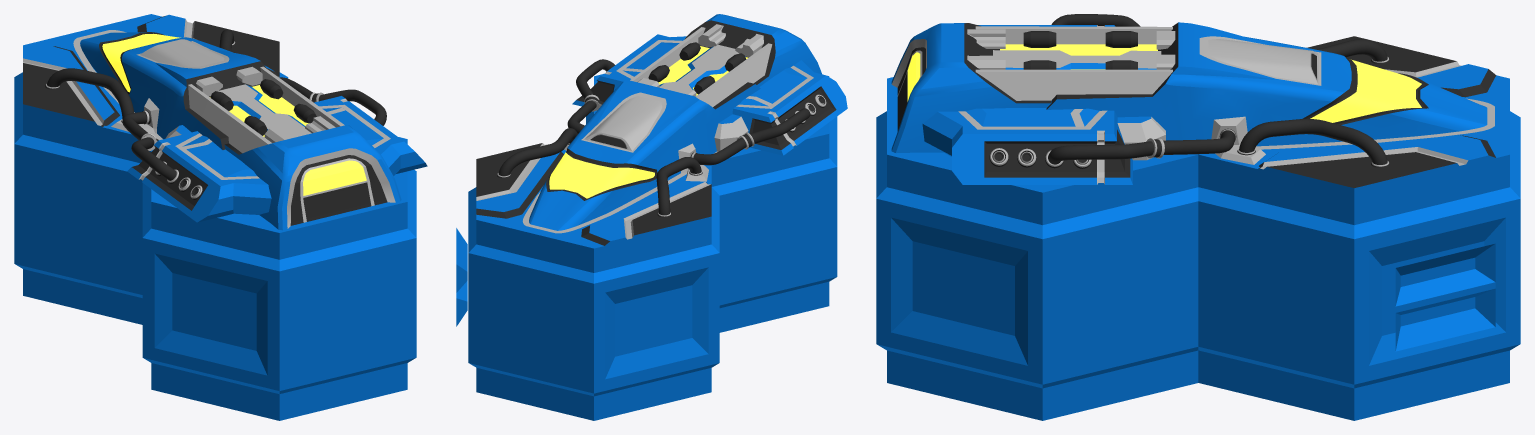
Rendered from CS_Bridge_Hex2_HP.fbx.
The picture shows the model from 3 angles, left to right: view 1: azimuth 30°, elevation 25°; view 2: azimuth 150°, elevation 25°; view 3: azimuth 270°, elevation 25°; orthographic projection. The views are drawn at different scales.
Parts seen in each view (by area): view 1: SM_Module_Bridge_TD.004, SM_Module_Bridge_TD, SM_Module_Bridge_BO.004, Cube.002, Cube.006, SM_Module_Bridge_BO.001, SM_Module_Bridge_BO.003, Pipe.004, Cube.010, Pipe.003, SM_Module_Bridge_BO.005, Cube.001 (+6 smaller); view 2: SM_Module_Bridge_TD.004, SM_Module_Bridge_TD, SM_Module_Bridge_BO.001, Cube.002, Cube.006, SM_Module_Bridge_BO.003, SM_Module_Bridge_BO.004, Cube.001, Pipe.004, Pipe.003, Cube.010, SM_Module_Bridge_BO.005 (+8 smaller); view 3: SM_Module_Bridge_TD.004, SM_Module_Bridge_TD, SM_Module_Bridge_BO.001, Cube.002, SM_Module_Bridge_BO.003, Cube.006, SM_Module_Bridge_BO.004, SM_Module_Bridge_TD.001, Pipe.004, Pipe.003, Cube.001, SM_Module_Bridge_BO.005 (+10 smaller).
Boxes of the visible parts, x1,y1,x2,y2 form: SM_Module_Bridge_TD.004: (14,72,416,393); SM_Module_Bridge_TD: (23,14,407,420); SM_Module_Bridge_BO.004: (224,125,401,230); Cube.002: (23,14,279,139); Cube.006: (127,96,427,222); SM_Module_Bridge_BO.001: (80,32,278,149); SM_Module_Bridge_BO.003: (188,66,344,153); Pipe.004: (122,77,386,180); Cube.010: (182,107,383,177); Pipe.003: (47,29,234,118); SM_Module_Bridge_BO.005: (155,49,265,86); Cube.001: (140,39,224,66); SM_Module_Bridge_TD.004: (468,111,837,396); SM_Module_Bridge_TD: (476,74,829,420); SM_Module_Bridge_BO.001: (529,82,760,230); Cube.002: (476,143,711,256); Cube.006: (572,34,847,155); SM_Module_Bridge_BO.003: (630,27,772,107); SM_Module_Bridge_BO.004: (684,14,821,86); Cube.001: (584,96,662,150); Pipe.004: (567,59,810,165); Pipe.003: (498,128,701,215); Cube.010: (623,42,807,106); SM_Module_Bridge_BO.005: (598,79,699,135); SM_Module_Bridge_TD.004: (876,111,1520,388); SM_Module_Bridge_TD: (887,75,1509,420); SM_Module_Bridge_BO.001: (1046,36,1487,146); Cube.002: (1252,36,1499,206); SM_Module_Bridge_BO.003: (975,26,1172,100); Cube.006: (922,25,1132,184); SM_Module_Bridge_BO.004: (891,23,1051,153); SM_Module_Bridge_TD.001: (1395,243,1495,351); Pipe.004: (1048,14,1234,164); Pipe.003: (1239,39,1387,164); Cube.001: (1208,39,1318,84); SM_Module_Bridge_BO.005: (1171,22,1276,79).
Bounding box in the file's own units: 4.27 × 7.16 × 3.7.
